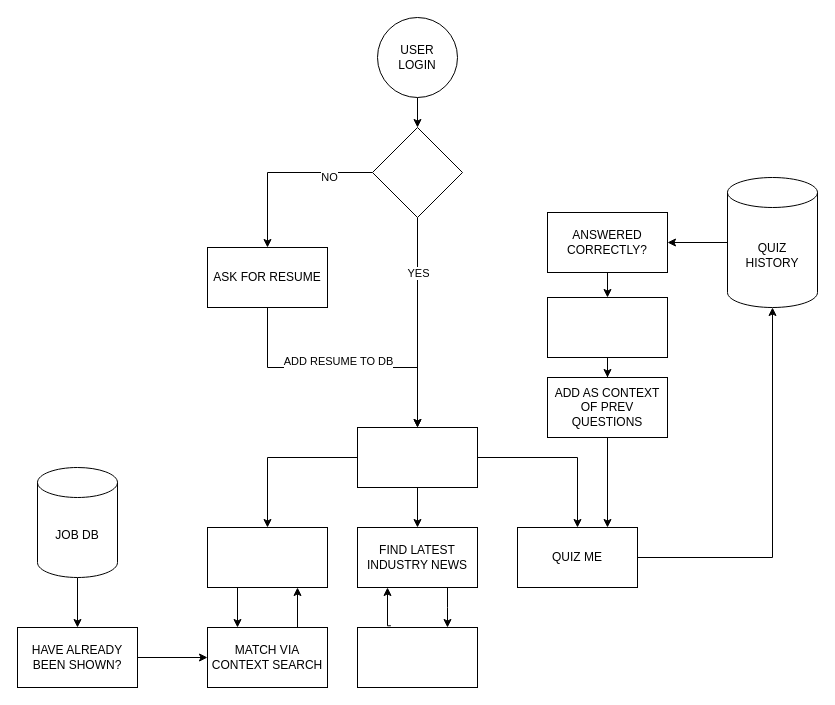
Image size: 835x705. Some labels were removed from this diagram. The shapes that lost their labels are listed below. From the top down, each one's box as (x1, y1, x2, y2) in pixels, then its label:
(372, 126, 462, 218): ACCOUNT EXIST?
(546, 296, 668, 358): LAST ASKED > 1 month
(356, 426, 478, 488): MCP CHAT AGENT
(206, 526, 328, 588): FIND NEW JOBS
(356, 626, 478, 688): USE PERPLEXITY TO FETCH LATEST NEWS
